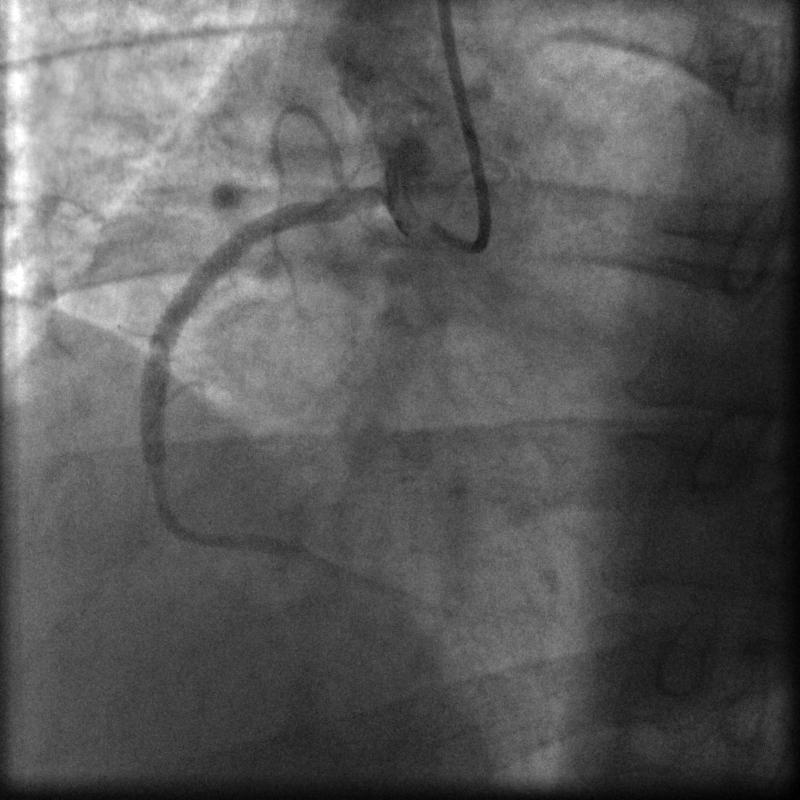Stenosis: (141, 451, 178, 530)
